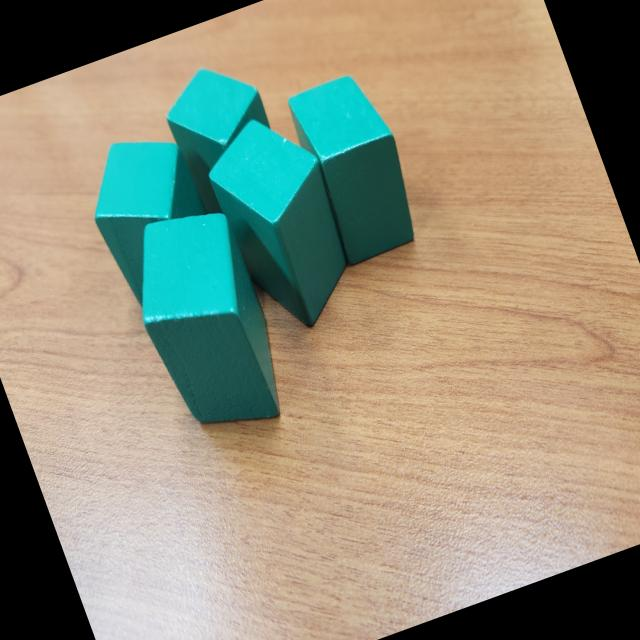green: (111, 197, 300, 450), (195, 103, 373, 344), (71, 120, 232, 316), (282, 67, 431, 270), (153, 50, 295, 221)
